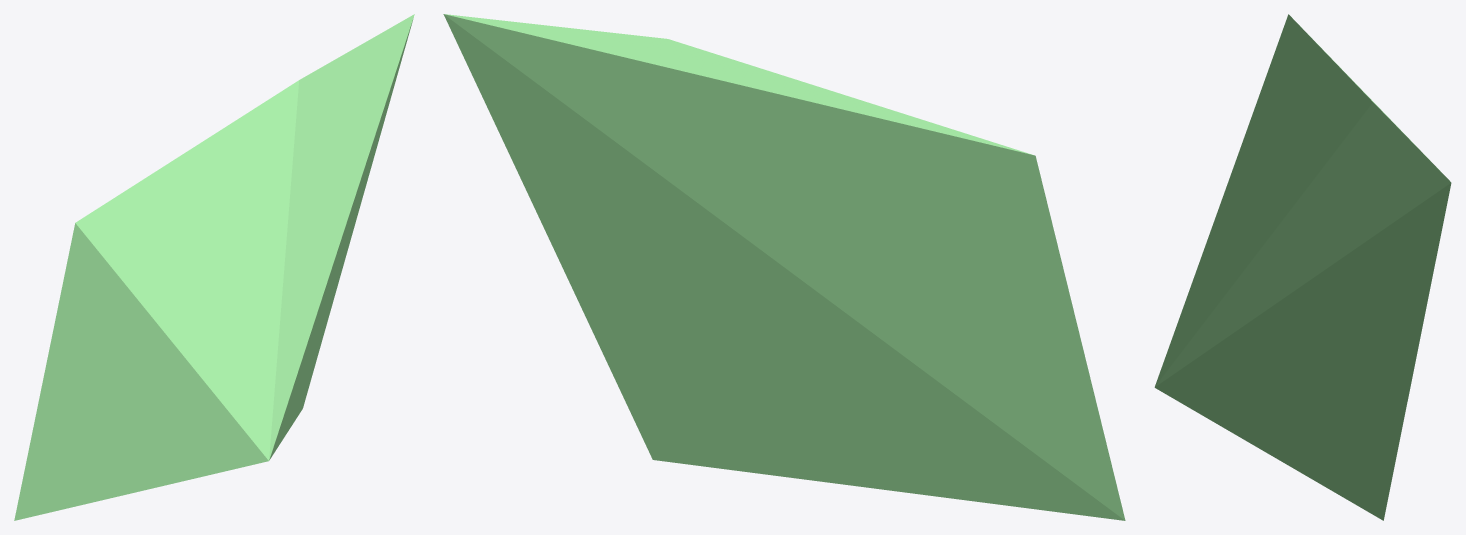
Rendered from panda_link7_resp_coll_4.dae.
The picture shows the model from 3 angles, left to right: view 1: azimuth 30°, elevation 25°; view 2: azimuth 150°, elevation 25°; view 3: azimuth 270°, elevation 25°; orthographic projection. The views are drawn at different scales.
Visible parts, largest first — view 1: node; view 2: node; view 3: node.
Boxes of the visible parts, bbox=[...] form: node: bbox=[14, 14, 414, 520]; node: bbox=[443, 14, 1125, 520]; node: bbox=[1154, 14, 1451, 520].
Bounding box in the file's own units: 0.0261 × 0.018 × 0.0115.
